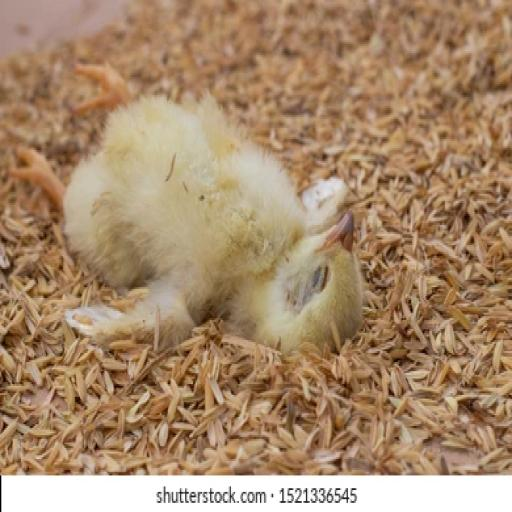disease: (285, 253, 337, 315)
